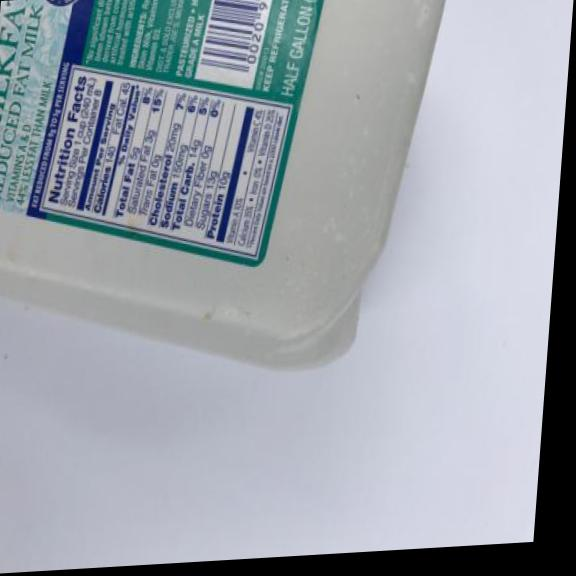Plastik: (0, 0, 449, 401)
